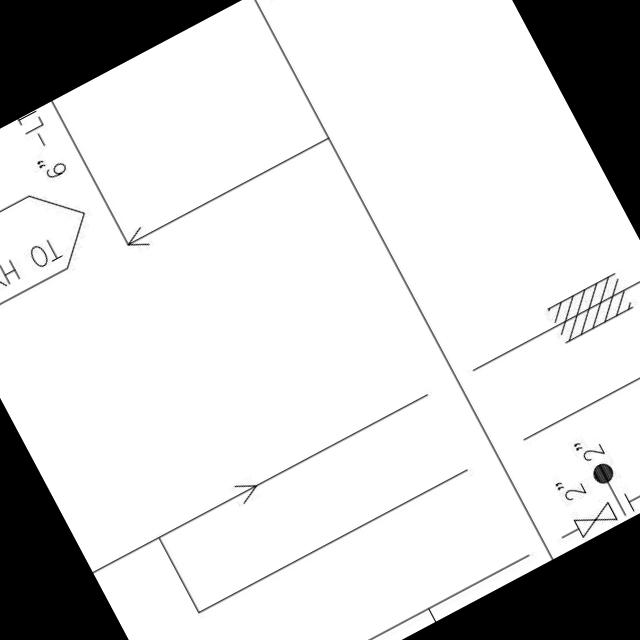GV: (567, 496, 623, 542)
